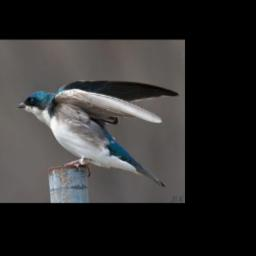Swallow: (15, 77, 180, 190)
